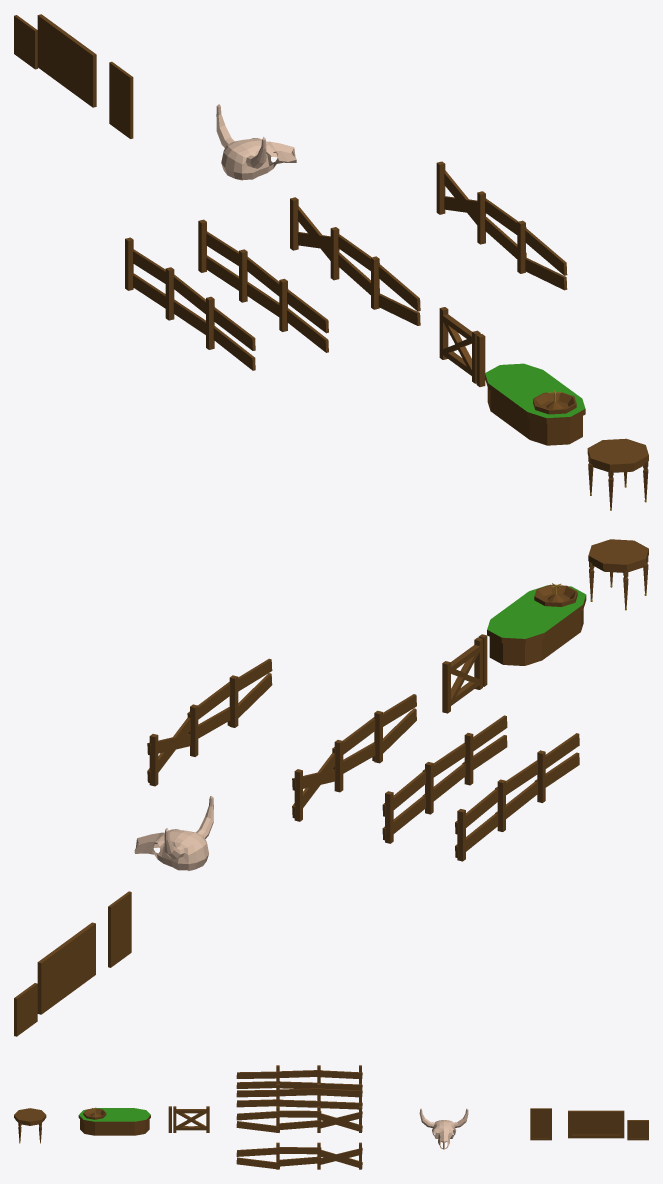
The model's file is mishelaneous_3.fbx.
The picture shows the model from 3 angles, top to bottom: view 1: azimuth 30°, elevation 25°; view 2: azimuth 150°, elevation 25°; view 3: azimuth 270°, elevation 25°; orthographic projection. The views are drawn at different scales.
Visible parts, largest first — view 1: ROULETTE, FENCE_UNITA_2, FENCE_UNITA_1, QUADRO_2, TESCHIO_MUCCA, TAVOLO, FENCE_SINGOLA_6, FENCE_SINGOLA_3, FENCE_APERTURA, QUADRO_1, FENCE_SINGOLA_1, FENCE_SINGOLA_4 (+3 smaller); view 2: ROULETTE, FENCE_UNITA_2, FENCE_UNITA_1, QUADRO_2, TESCHIO_MUCCA, TAVOLO, FENCE_APERTURA, FENCE_SINGOLA_2, QUADRO_1, FENCE_SINGOLA_3, FENCE_SINGOLA_6, FENCE_SINGOLA_4 (+3 smaller); view 3: FENCE_UNITA_2, FENCE_UNITA_1, ROULETTE, QUADRO_2, QUADRO_1, TESCHIO_MUCCA, FENCE_SINGOLA_3, FENCE_APERTURA, FENCE_SINGOLA_4, FENCE_SINGOLA_6, FENCE_SINGOLA_1, FENCE_SINGOLA_2 (+3 smaller).
Boxes of the visible parts, x1,y1,x2,y2 form: ROULETTE: [485, 363, 585, 445]; FENCE_UNITA_2: [198, 219, 328, 352]; FENCE_UNITA_1: [290, 197, 420, 325]; QUADRO_2: [37, 14, 96, 107]; TESCHIO_MUCCA: [216, 104, 296, 180]; TAVOLO: [587, 438, 648, 510]; FENCE_SINGOLA_6: [206, 296, 255, 370]; FENCE_SINGOLA_3: [517, 220, 567, 290]; FENCE_APERTURA: [439, 307, 480, 383]; QUADRO_1: [109, 61, 133, 138]; FENCE_SINGOLA_1: [165, 267, 205, 334]; FENCE_SINGOLA_4: [477, 191, 526, 258]; ROULETTE: [487, 583, 586, 665]; FENCE_UNITA_2: [382, 715, 507, 843]; FENCE_UNITA_1: [292, 694, 416, 821]; QUADRO_2: [37, 922, 95, 1014]; TESCHIO_MUCCA: [134, 796, 213, 870]; TAVOLO: [588, 539, 648, 610]; FENCE_APERTURA: [442, 637, 482, 713]; FENCE_SINGOLA_2: [455, 789, 498, 861]; QUADRO_1: [108, 891, 131, 967]; FENCE_SINGOLA_3: [227, 658, 272, 727]; FENCE_SINGOLA_6: [534, 733, 579, 802]; FENCE_SINGOLA_4: [187, 682, 230, 756]; FENCE_UNITA_2: [236, 1083, 362, 1109]; FENCE_UNITA_1: [236, 1106, 362, 1132]; ROULETTE: [78, 1107, 150, 1135]; QUADRO_2: [568, 1110, 624, 1138]; QUADRO_1: [530, 1108, 551, 1140]; TESCHIO_MUCCA: [419, 1108, 468, 1149]; FENCE_SINGOLA_3: [236, 1142, 280, 1169]; FENCE_APERTURA: [173, 1106, 209, 1132]; FENCE_SINGOLA_4: [277, 1142, 321, 1169]; FENCE_SINGOLA_6: [236, 1065, 280, 1088]; FENCE_SINGOLA_1: [277, 1065, 321, 1088]; FENCE_SINGOLA_2: [319, 1065, 362, 1090].
Bounding box in the file's own units: 1740 × 388 × 5887.
